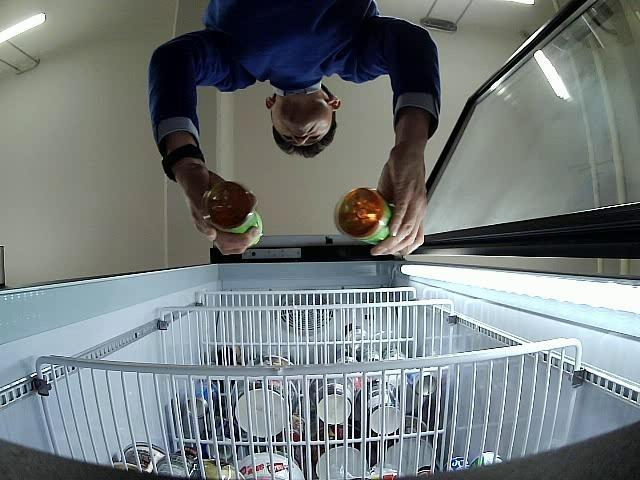19_17cha: (204, 180, 264, 244), (334, 186, 394, 246)
